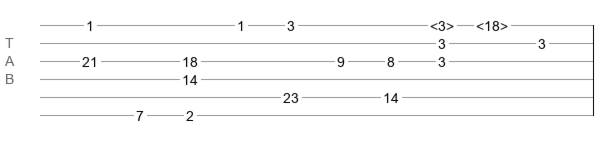1: (86, 18, 94, 28), (237, 18, 245, 28)
14: (182, 72, 198, 82), (383, 90, 399, 100)
18: (182, 54, 198, 64)
2: (186, 108, 194, 118)
21: (82, 54, 98, 64)
23: (283, 90, 299, 100)
3: (287, 18, 295, 28), (438, 36, 446, 46), (438, 54, 446, 64), (538, 36, 546, 46)
7: (136, 108, 144, 118)
8: (387, 54, 395, 64)
9: (337, 54, 345, 64)
harmonic: (476, 18, 508, 28), (430, 18, 454, 28)
